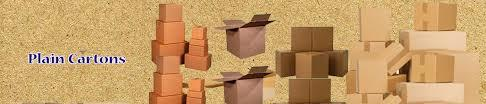Cardboard: (144, 0, 486, 104)
